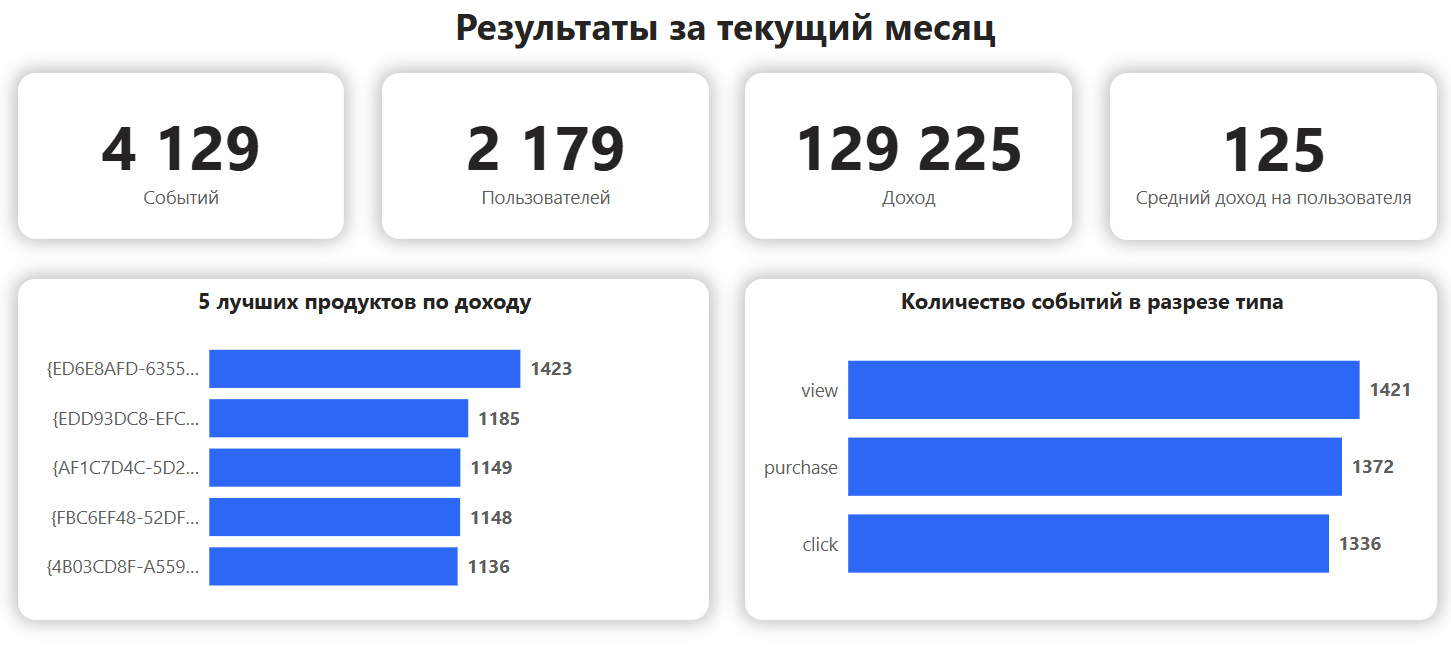

The dashboard page shown, as its layout file describes it:
{"tool":"powerbi","page":{"name":"events","canvas":[1280,600],"ordinal":0},"visuals":[{"type":"card","title":"Событий ща текущий месяц","fields":{"Values":["Sum(Запрос1.events_count)"]},"box":[26.1,68.2,281.1,143.1],"z":0},{"type":"card","fields":{"Values":["Sum(Запрос1.unique_users)"]},"box":[339.6,68.2,282.4,143.1],"z":1},{"type":"card","fields":{"Values":["Sum(revenuse and average.revenue)"]},"box":[653.1,68.2,282.4,143.1],"z":2},{"type":"card","fields":{"Values":["Sum(revenuse and average.average_revenue_per_user)"]},"box":[967.8,68.2,282.4,144.3],"z":3},{"type":"barChart","title":"5 лучших продуктов по доходу","fields":{"Category":["top 5 product.product_id"],"Y":["Sum(top 5 product.revenue)"]},"box":[26.1,246.1,595.9,293.6],"z":4},{"type":"barChart","title":"Количество событий в разрезе типа","fields":{"Category":["counts by event type.event"],"Y":["Sum(counts by event type.events_count)"]},"box":[653.1,246.1,597.1,293.6],"z":5},{"type":"textbox","box":[0,0,1280,52.2],"z":6}]}

Visuals, with their boxes on the page's 1280x600 design canvas (x1, y1, x2, y2). These are canvas units, not pixel positions in the 1451x650 screenshot, which may show the page scaled, cropped or inside an application window:
"Событий ща текущий месяц" card: bbox=[26, 68, 307, 211]
card - Sum(Запрос1.unique_users): bbox=[340, 68, 622, 211]
card - Sum(revenuse and average.revenue): bbox=[653, 68, 936, 211]
card - Sum(revenuse and average.average_revenue_per_user): bbox=[968, 68, 1250, 212]
"5 лучших продуктов по доходу" barChart: bbox=[26, 246, 622, 540]
"Количество событий в разрезе типа" barChart: bbox=[653, 246, 1250, 540]
textbox: bbox=[0, 0, 1280, 52]
